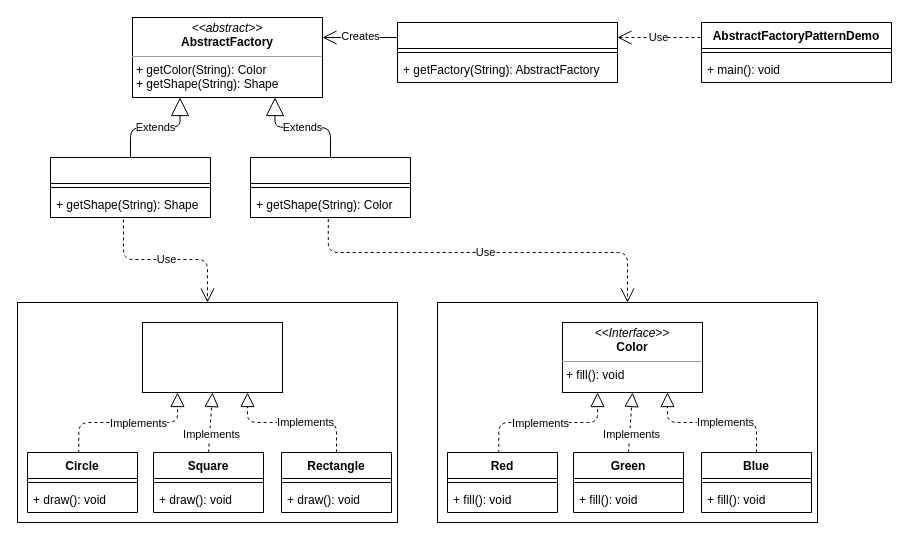
Image size: 909x540. Some labels were removed from this diagram. The shapes that lost their labels are listed below. From the top down, each one's box as (x1, y1, x2, y2) in pixels, then its label:
(396, 22, 618, 82): FactoryProducer
(50, 156, 210, 218): ShapeFactory
(250, 156, 410, 218): ColorFactory
(142, 322, 282, 392): <<Interface>> Shape + draw(): void
